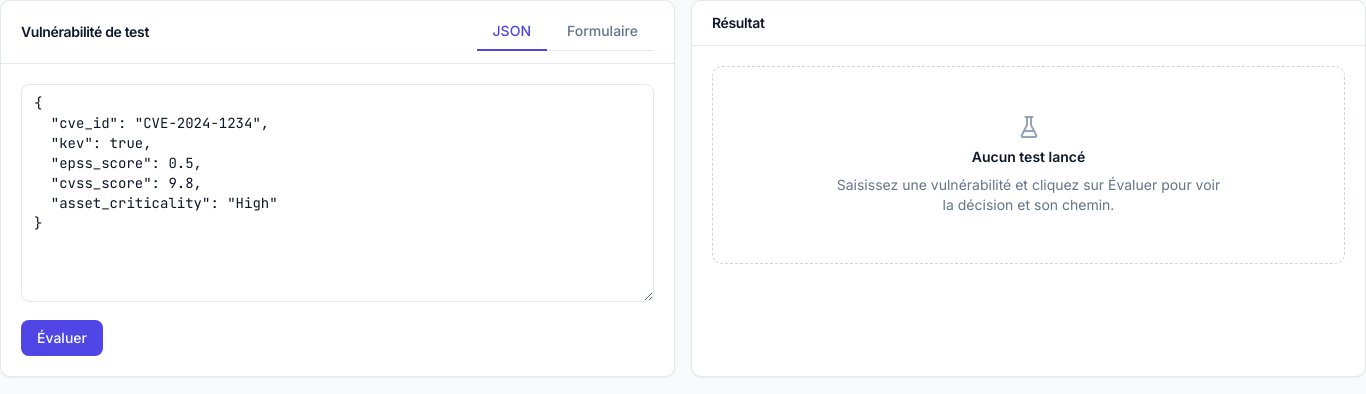
Scenario: QuickTest › bascule sur le formulaire généré depuis le mapping
Click the tab "Formulaire" at (602, 32), box [551,13,654,51]
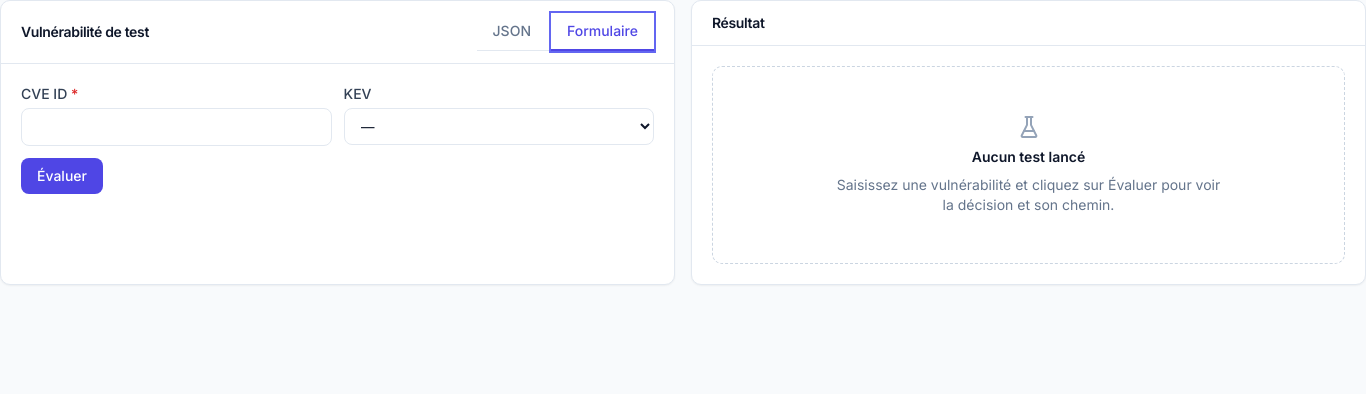
Expected: the field labelled "CVE ID *" is shown, [21,108,332,146]
